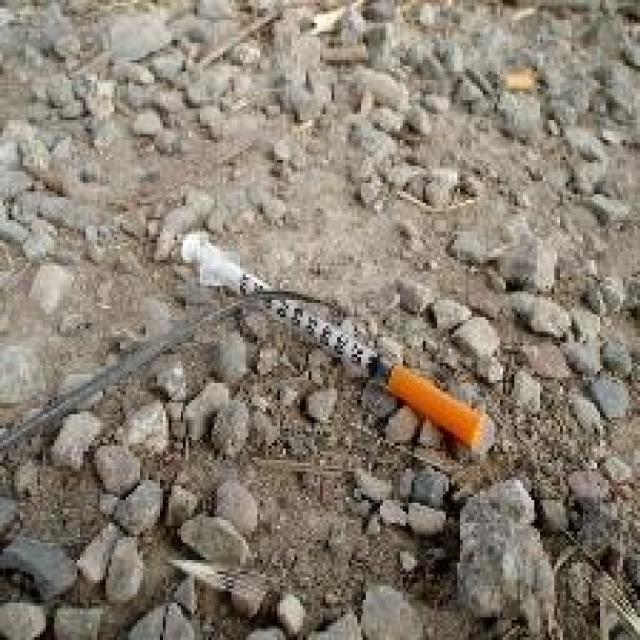syringe: (185, 190, 506, 508)
